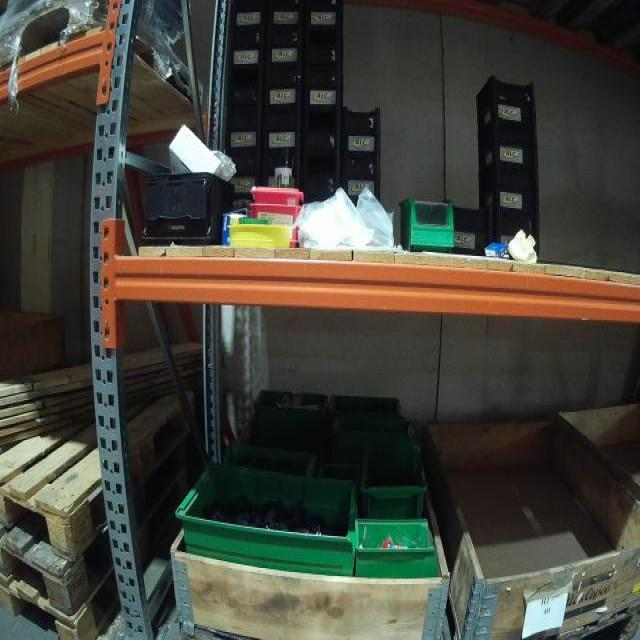pallet: (3, 380, 173, 545), (3, 6, 209, 117), (3, 534, 132, 610), (8, 583, 127, 636), (543, 596, 639, 638)
